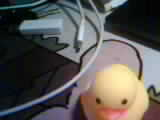duck: (79, 59, 149, 118)
